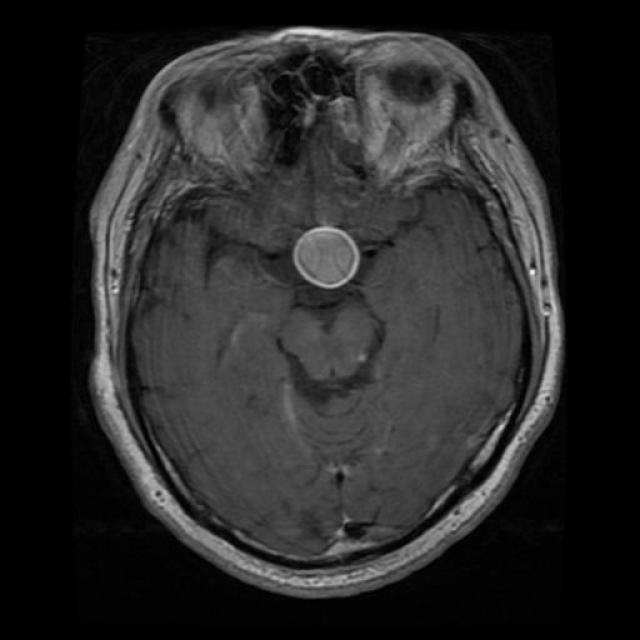Brain-Tumor: (286, 213, 366, 294)
eye: (346, 35, 480, 191), (158, 60, 289, 202)
